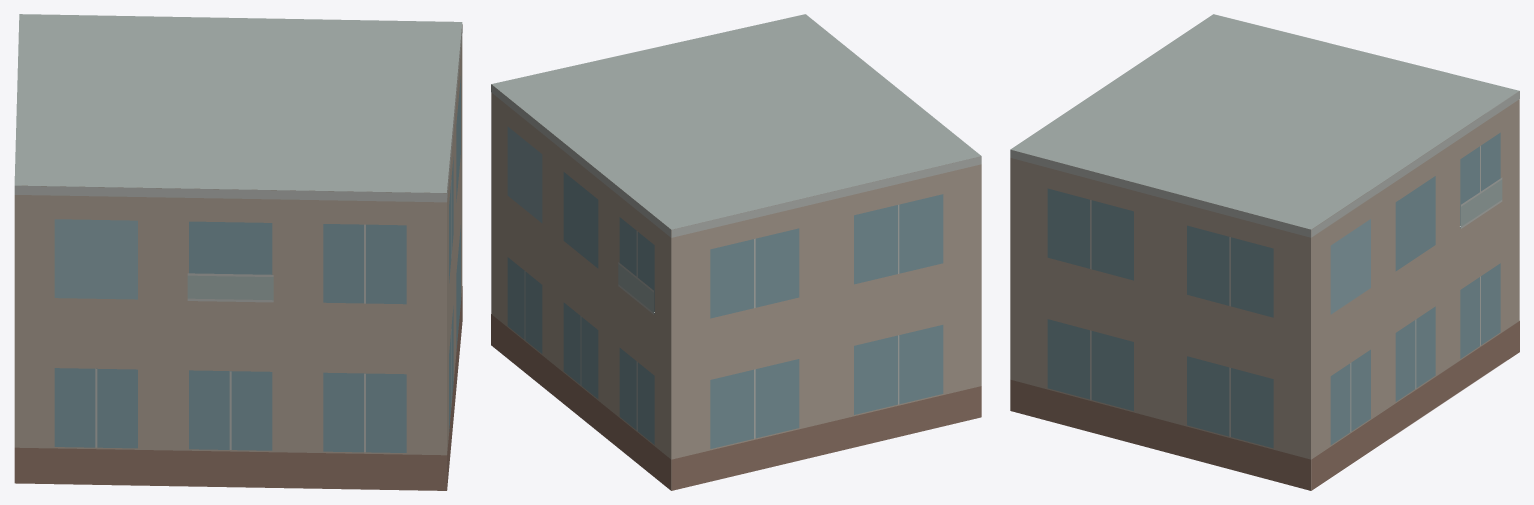
Rendered from survey-upis-32770938.glb.
3 views of the same model, side by side, from view 1: azimuth 30°, elevation 25°; view 2: azimuth 150°, elevation 25°; view 3: azimuth 270°, elevation 25° (orthographic). The views are drawn at different scales.
Parts seen in each view (by area): view 1: survey-upis-32770938.tmp; view 2: survey-upis-32770938.tmp; view 3: survey-upis-32770938.tmp.
Part boxes in pixels (x1,y1,x2,y2): survey-upis-32770938.tmp: (14,14,462,490); survey-upis-32770938.tmp: (491,14,981,490); survey-upis-32770938.tmp: (1010,14,1519,490).
Bounding box in the file's own units: 13.81 × 7.8 × 13.79.
